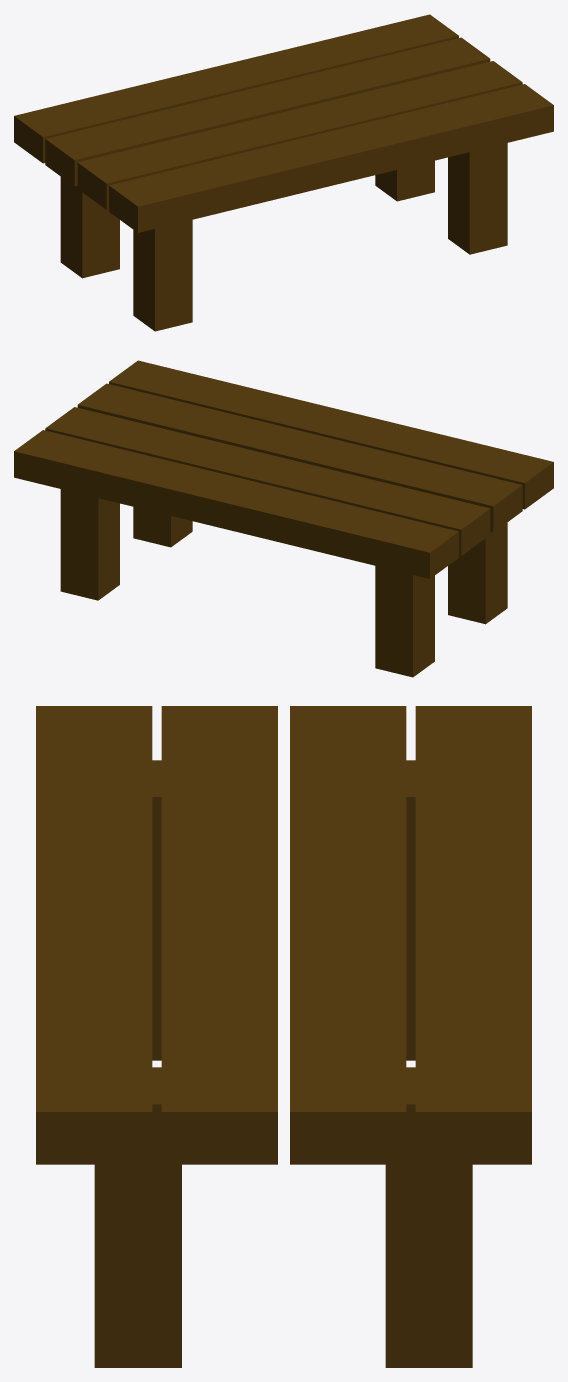
The model's file is Bench.fbx.
3 renders of one model, top to bottom at view 1: azimuth 30°, elevation 25°; view 2: azimuth 150°, elevation 25°; view 3: azimuth 270°, elevation 25°, orthographic. The views are drawn at different scales.
Visible parts, largest first — view 1: Cube.004, Cube.006, Cube.005, Cube.007, Cube.002, Cube.003, Cube.001, Cube; view 2: Cube.007, Cube.005, Cube.006, Cube.004, Cube.001, Cube, Cube.002, Cube.003; view 3: Cube.004, Cube.005, Cube.006, Cube.007, Cube, Cube.003, Cube.001, Cube.002.
Part boxes in pixels (box(x1,y1,x2,y2)): Cube.004: box(109, 84, 553, 232); Cube.006: box(45, 37, 490, 186); Cube.005: box(77, 61, 522, 209); Cube.007: box(14, 14, 458, 163); Cube.002: box(133, 220, 192, 331); Cube.003: box(448, 143, 507, 254); Cube.001: box(60, 177, 119, 278); Cube: box(375, 160, 434, 201); Cube.007: box(14, 430, 458, 578); Cube.005: box(77, 383, 522, 532); Cube.006: box(45, 407, 490, 555); Cube.004: box(109, 360, 553, 509); Cube.001: box(375, 566, 434, 677); Cube: box(60, 489, 119, 600); Cube.002: box(448, 522, 507, 624); Cube.003: box(133, 507, 192, 547); Cube.004: box(36, 706, 152, 1164); Cube.005: box(161, 706, 277, 1164); Cube.006: box(290, 706, 406, 1164); Cube.007: box(415, 706, 531, 1164); Cube: box(385, 1067, 472, 1367); Cube.003: box(94, 1067, 181, 1367); Cube.001: box(406, 760, 415, 1060); Cube.002: box(152, 760, 161, 1060).
Bounding box in the file's own units: 661 × 218 × 341.
